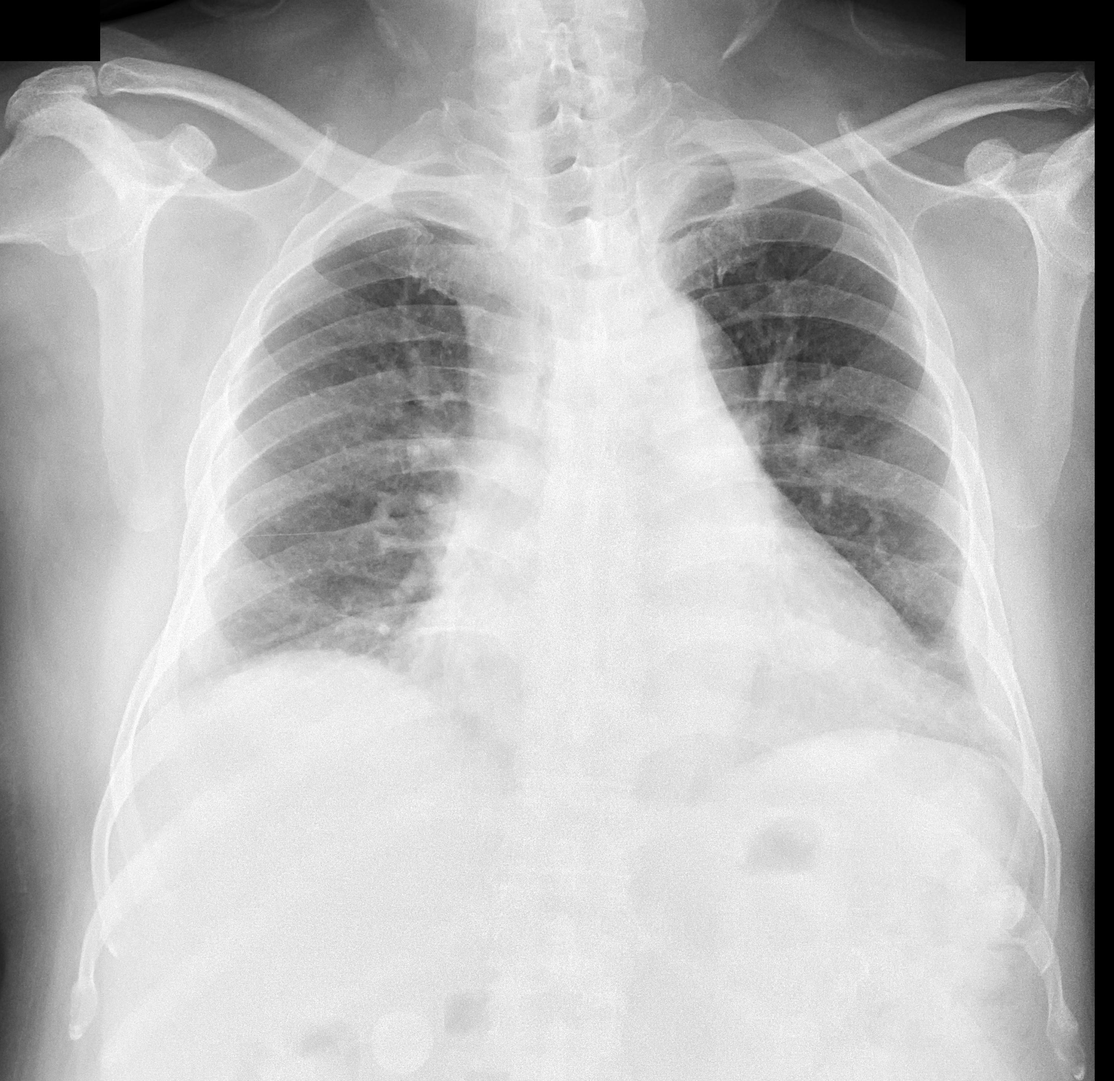Aortic enlargement: (474, 298, 756, 474)
Cardiomegaly: (395, 597, 936, 729)
